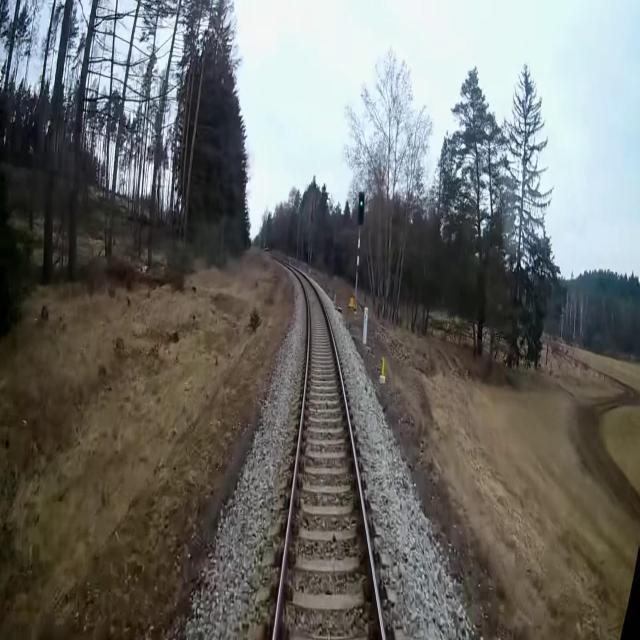rail-track: (276, 267, 381, 639)
